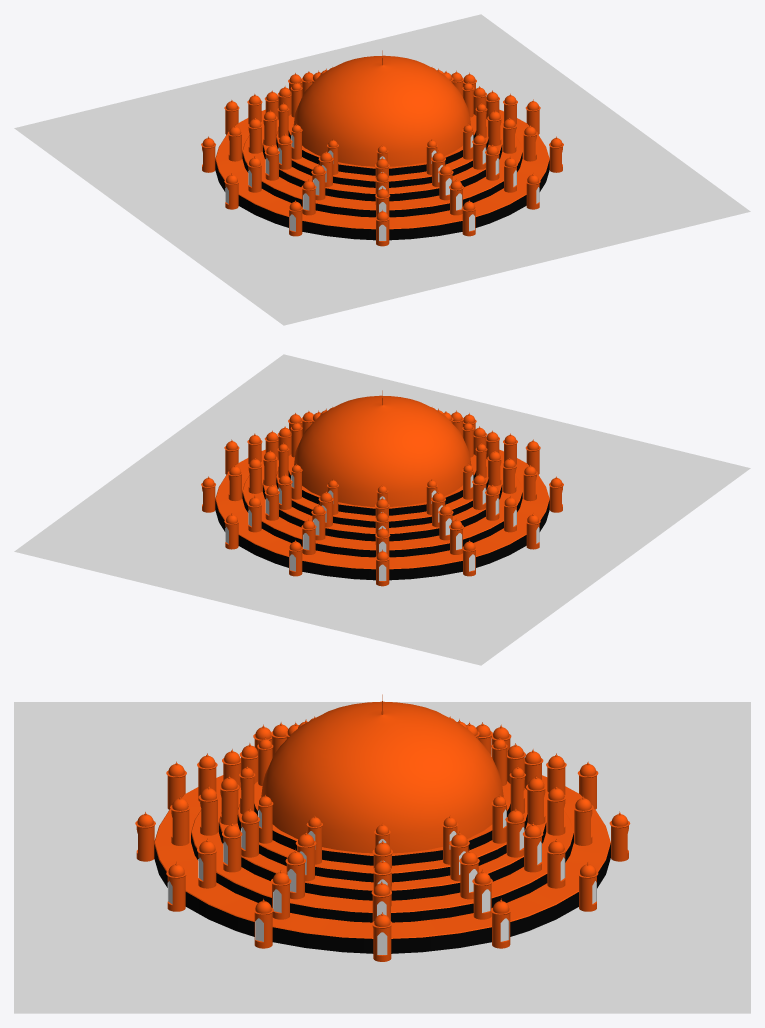
File: MAKASSAR.fbx
3 renders of one model, top to bottom at view 1: azimuth 30°, elevation 25°; view 2: azimuth 150°, elevation 25°; view 3: azimuth 270°, elevation 25°, orthographic. The views are drawn at different scales.
Parts seen in each view (by area): view 1: Plane, Circle; view 2: Plane, Circle; view 3: Plane, Circle.
Boxes of the visible parts, x1,y1,x2,y2 form: Plane: [14, 14, 750, 325]; Circle: [201, 50, 563, 246]; Plane: [14, 354, 750, 665]; Circle: [201, 390, 563, 586]; Plane: [14, 702, 750, 1013]; Circle: [135, 694, 630, 961].
Bounding box in the file's own units: 1421 × 349 × 1421.
